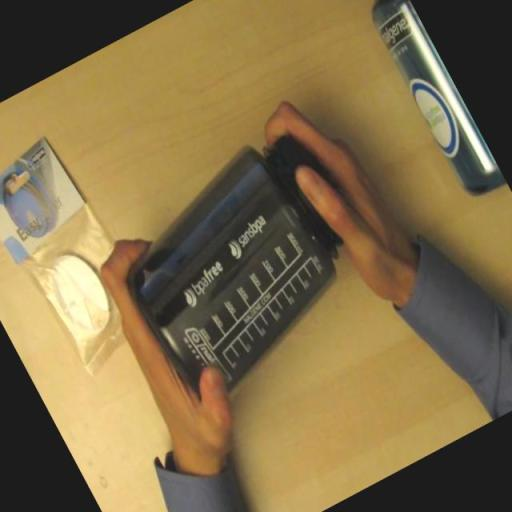bottle: (90, 118, 400, 424)
